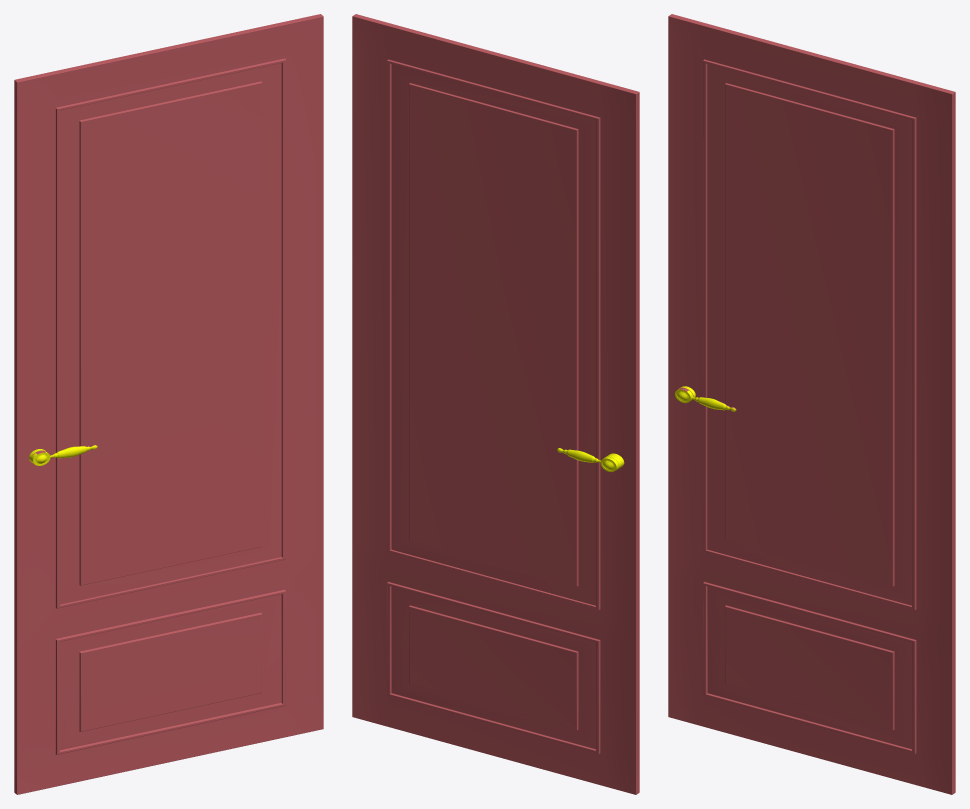
The model's file is Puerta1.obj.
The picture shows the model from 3 angles, left to right: view 1: azimuth 30°, elevation 25°; view 2: azimuth 150°, elevation 25°; view 3: azimuth 330°, elevation 25°; orthographic projection.
Visible parts, largest first — view 1: Puerta_001_Puerta_001_aiStandardSurface2SG_001; view 2: Puerta_001_Puerta_001_aiStandardSurface2SG_001, Puerta_002_Puerta_002_PomoPuerta; view 3: Puerta_001_Puerta_001_aiStandardSurface2SG_001.
Part boxes in pixels (bbox=[...]): Puerta_001_Puerta_001_aiStandardSurface2SG_001: bbox=[14, 14, 323, 794]; Puerta_001_Puerta_001_aiStandardSurface2SG_001: bbox=[352, 14, 639, 794]; Puerta_002_Puerta_002_PomoPuerta: bbox=[557, 448, 624, 471]; Puerta_001_Puerta_001_aiStandardSurface2SG_001: bbox=[668, 14, 955, 794].
Bounding box in the file's own units: 5.06 × 11.57 × 0.5826.
